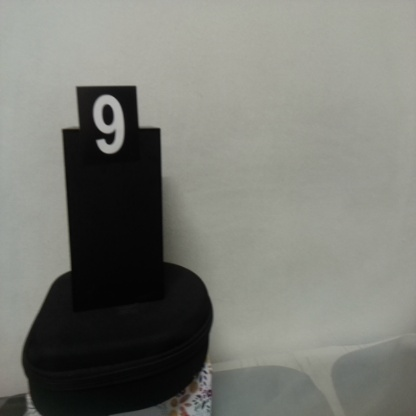id_9: (77, 87, 139, 178)
